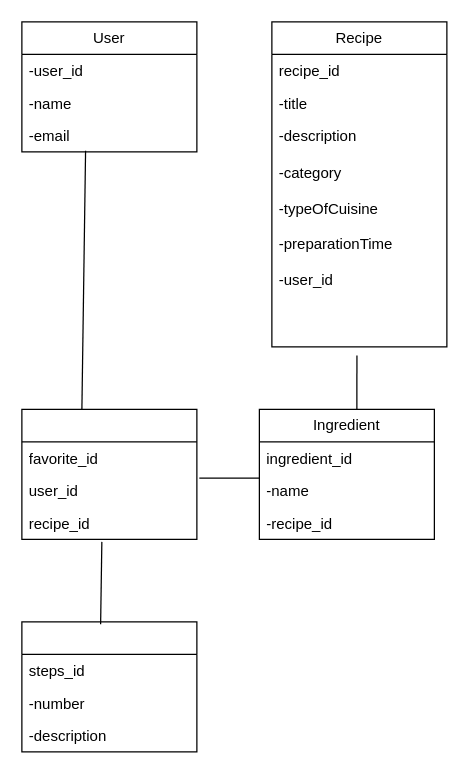
Image size: 469x778. Some labels were removed from this diagram. Each missing label, with the box of its shape:
Etape: (21, 621, 197, 752)
Favorites: (21, 408, 197, 539)
